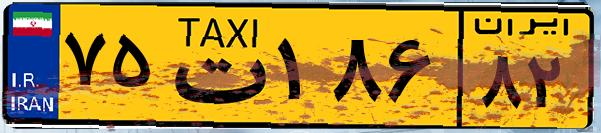1: (270, 28, 330, 110)
2: (525, 38, 570, 115)
5: (110, 28, 158, 98)
6: (385, 28, 445, 110)
7: (57, 26, 110, 100)
8: (330, 28, 385, 110), (475, 38, 525, 113)
ت: (158, 12, 270, 120)
